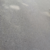zebra: (1, 1, 50, 23)
